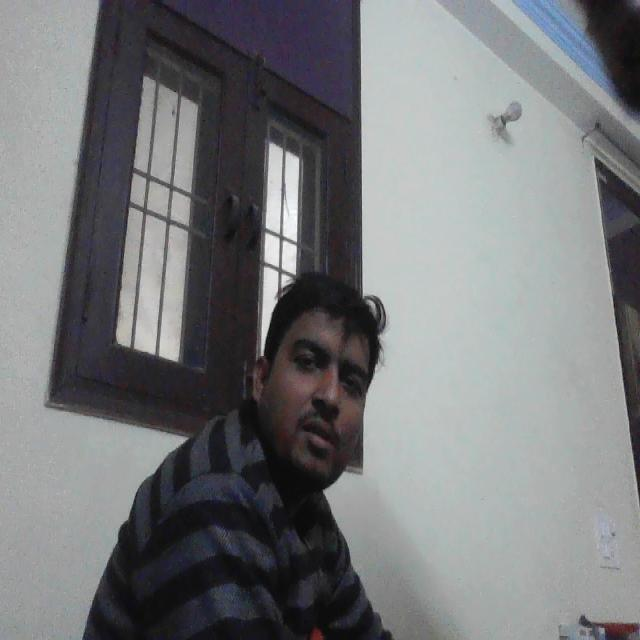real: (253, 263, 369, 481)
